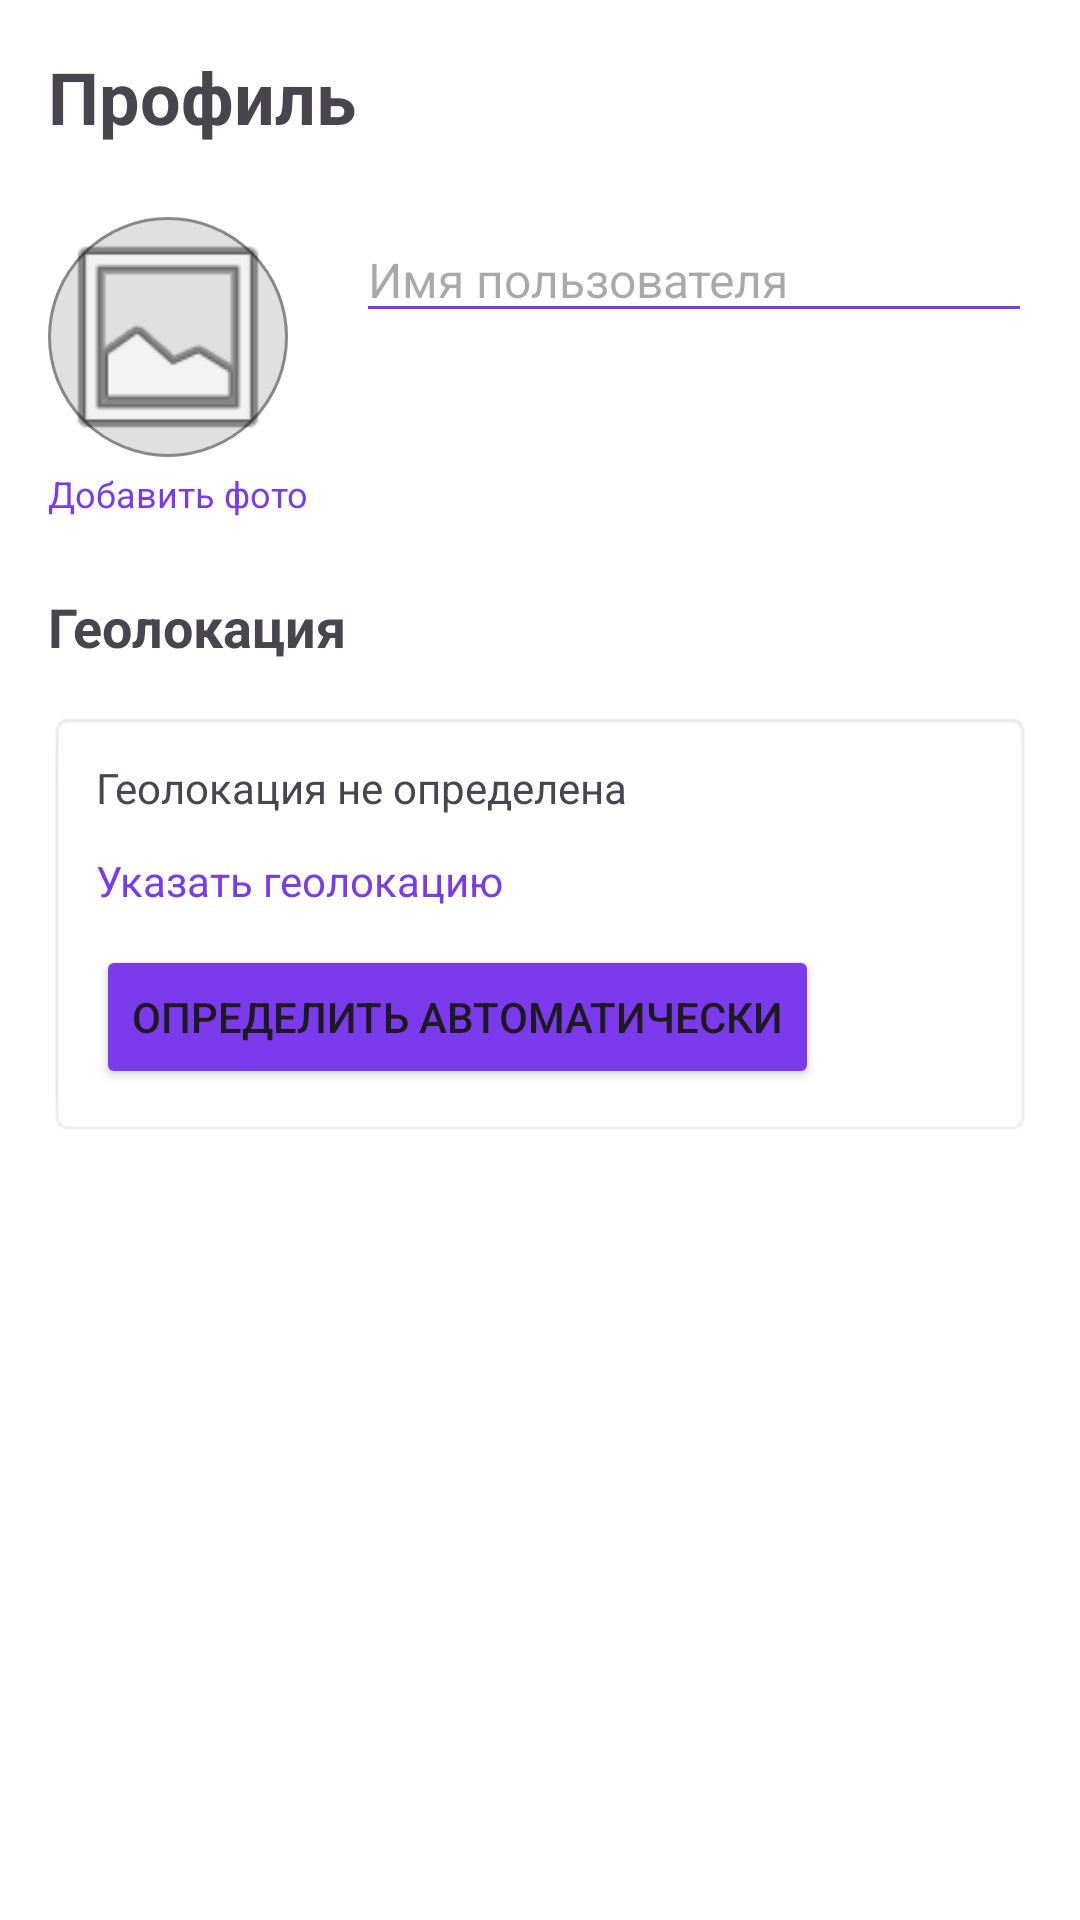

Icons on this 1080 × 1920 Android screen, each with its box as [left=x1, top=y1, right=x2, bottom=y2]:
gallery: [left=48, top=217, right=288, bottom=457]
